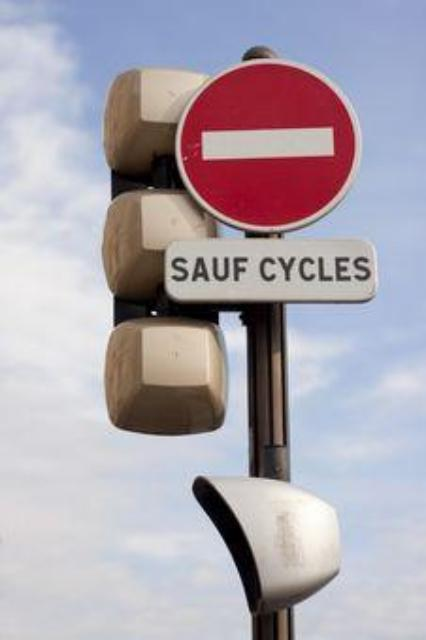B2: (172, 54, 362, 232)
